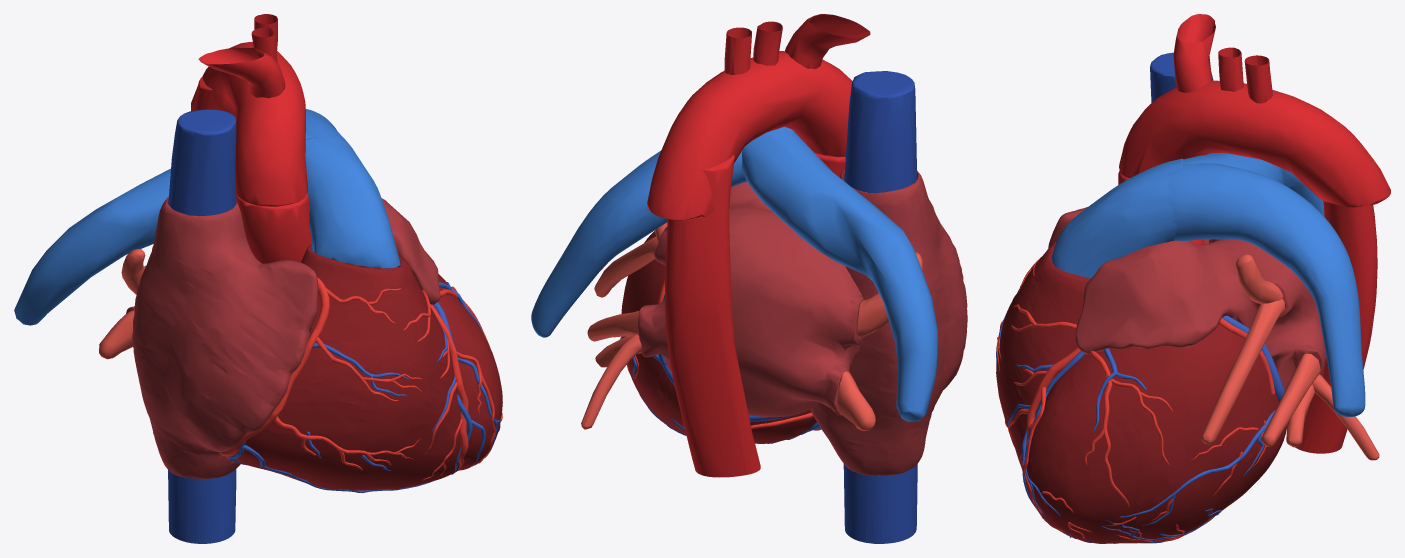
The model's file is heart.glb.
The picture shows the model from 3 angles, left to right: view 1: azimuth 30°, elevation 25°; view 2: azimuth 150°, elevation 25°; view 3: azimuth 270°, elevation 25°; orthographic projection. The views are drawn at different scales.
Visible parts, largest first — view 1: right-atrium, right-ventricle, aorta, right-pulmonary-artery, pulmonary-trunk, superior-vena-cava, coronary-arteries, left-ventricle, inferior-vena-cava, cardiac-veins, left-atrium, pulmonary-veins (+1 smaller); view 2: aorta, left-atrium, right-pulmonary-artery, right-atrium, left-pulmonary-artery, superior-vena-cava, pulmonary-veins, left-ventricle, inferior-vena-cava, cardiac-veins; view 3: left-ventricle, aorta, left-atrium, left-pulmonary-artery, right-ventricle, pulmonary-trunk, pulmonary-veins, coronary-arteries, cardiac-veins, right-pulmonary-artery, superior-vena-cava.
Part boxes in pixels (x1,y1,x2,y2): right-atrium: (132, 196, 318, 478); right-ventricle: (226, 244, 467, 490); aorta: (191, 14, 311, 263); right-pulmonary-artery: (14, 131, 312, 325); pulmonary-trunk: (305, 136, 400, 268); superior-vena-cava: (168, 109, 236, 215); coronary-arteries: (219, 277, 502, 480); left-ventricle: (438, 274, 502, 469); inferior-vena-cava: (168, 469, 236, 543); cardiac-veins: (226, 282, 500, 493); left-atrium: (126, 198, 440, 313); pulmonary-veins: (99, 249, 145, 359); aorta: (647, 14, 870, 477); left-atrium: (637, 181, 864, 416); right-pulmonary-artery: (742, 126, 938, 422); right-atrium: (810, 169, 967, 475); left-pulmonary-artery: (531, 150, 746, 337); superior-vena-cava: (844, 71, 916, 193); pulmonary-veins: (581, 222, 922, 430); left-ventricle: (621, 231, 813, 443); inferior-vena-cava: (843, 464, 917, 543); cardiac-veins: (620, 294, 820, 443); left-ventricle: (1025, 324, 1286, 543); aorta: (1118, 14, 1390, 453); left-atrium: (1075, 239, 1326, 390); left-pulmonary-artery: (1167, 163, 1365, 416); right-ventricle: (996, 240, 1090, 466); pulmonary-trunk: (1051, 158, 1183, 278); pulmonary-veins: (1201, 254, 1379, 460); coronary-arteries: (996, 257, 1274, 543); cardiac-veins: (996, 310, 1284, 543); right-pulmonary-artery: (1182, 153, 1324, 216); superior-vena-cava: (1150, 52, 1213, 153).
Bounding box in the file's own units: 0.1403 × 0.168 × 0.1268.
